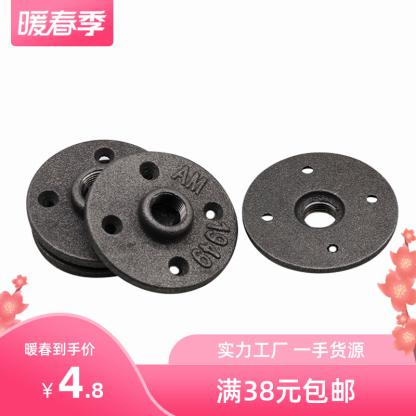FOD: (82, 150, 239, 296), (241, 148, 401, 274)
